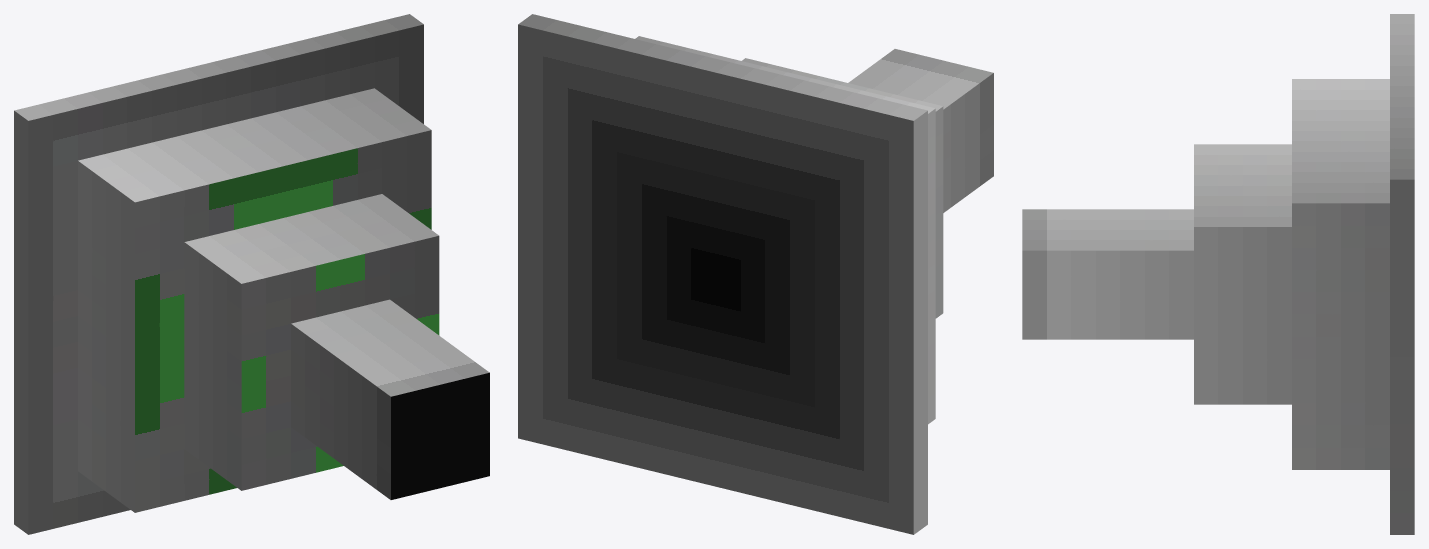
The model's file is fluidpuller.obj.
The picture shows the model from 3 angles, left to right: view 1: azimuth 30°, elevation 25°; view 2: azimuth 150°, elevation 25°; view 3: azimuth 270°, elevation 25°; orthographic projection. The views are drawn at different scales.
Parts seen in each view (by area): view 1: Cube; view 2: Cube; view 3: Cube.
Boxes of the visible parts, x1,y1,x2,y2 form: Cube: (14,14,489,534); Cube: (518,14,993,534); Cube: (1022,14,1414,534).
Size of the model in its own units: 1 by 1 by 1.
